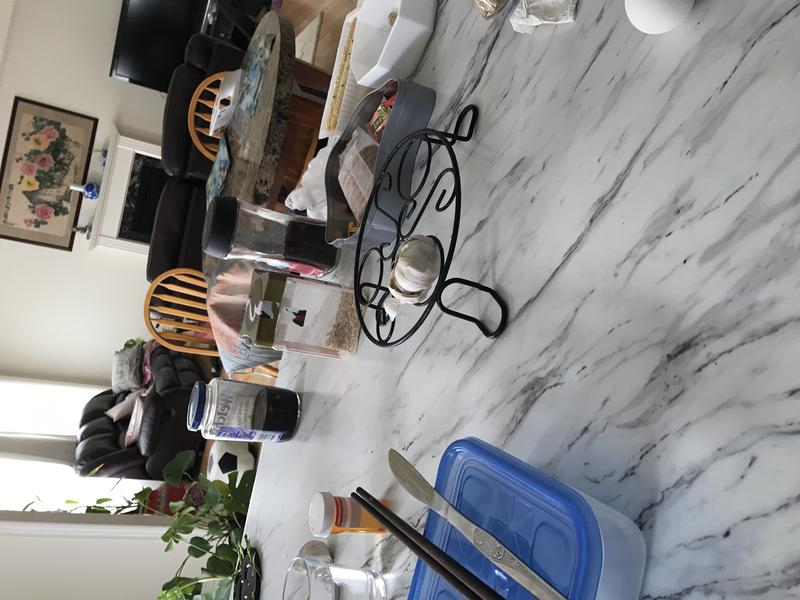garlic: (387, 228, 444, 310)
